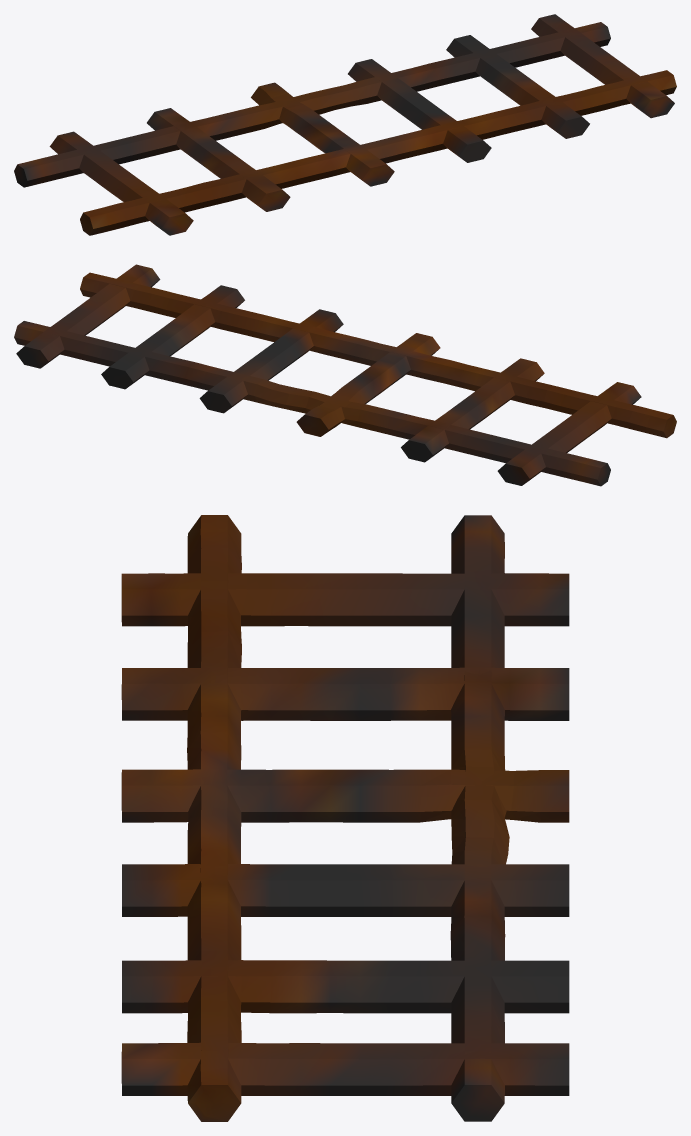
Rendered from Rail.fbx.
The picture shows the model from 3 angles, top to bottom: view 1: azimuth 30°, elevation 25°; view 2: azimuth 150°, elevation 25°; view 3: azimuth 270°, elevation 25°; orthographic projection. The views are drawn at different scales.
Parts seen in each view (by area): view 1: Cylindre; view 2: Cylindre; view 3: Cylindre.
Part boxes in pixels (left/top/right/bottom): Cylindre: left=14, top=14, right=676, bottom=235; Cylindre: left=14, top=264, right=676, bottom=486; Cylindre: left=121, top=515, right=569, bottom=1121.
Bounding box in the file's own units: 1 × 0.0313 × 0.3322.
